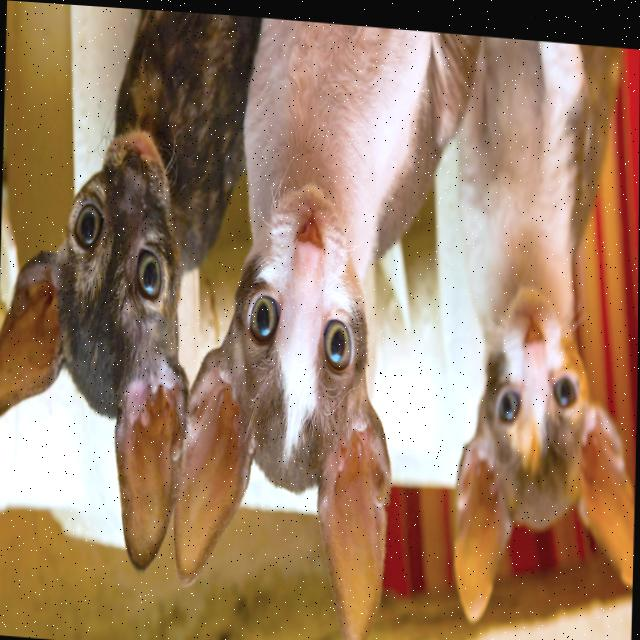Cornish Rex: (167, 9, 479, 640), (0, 0, 262, 585), (438, 26, 640, 638)
